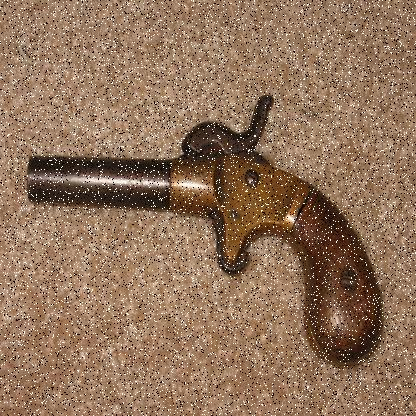pistol: (23, 93, 380, 365)
